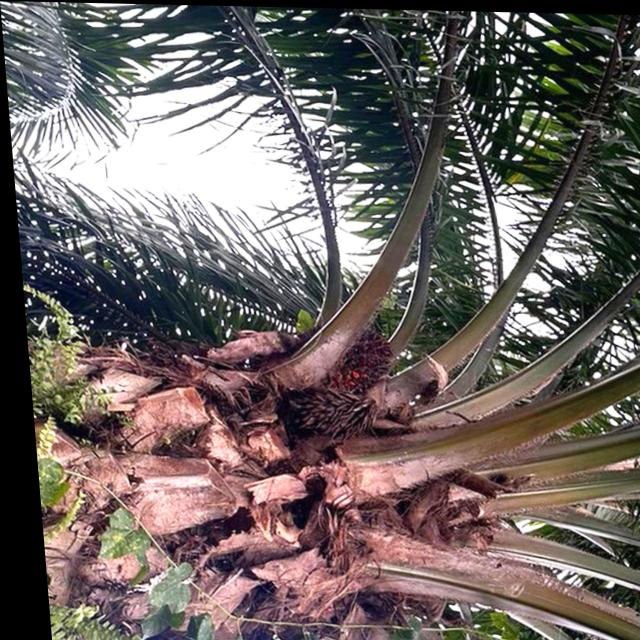ripe: (310, 326, 394, 393)
